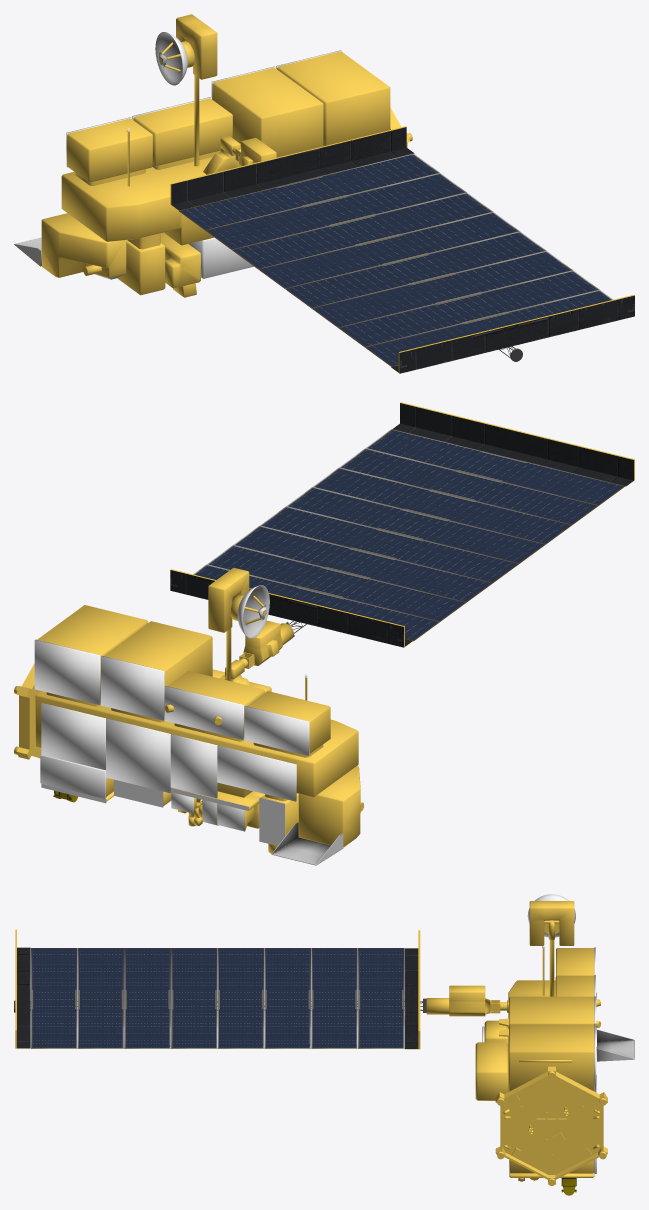
File: Terra.gltf
The picture shows the model from 3 angles, top to bottom: view 1: azimuth 30°, elevation 25°; view 2: azimuth 150°, elevation 25°; view 3: azimuth 270°, elevation 25°; orthographic projection. The views are drawn at different scales.
Visible parts, largest first — view 1: Solar_Panel_Assembly, BUS, Dish_Top_Base, Dish_Top, Solar_Panel_Base; view 2: Solar_Panel_Assembly, BUS, Dish_Top_Base, Dish_Top; view 3: Solar_Panel_Assembly, BUS, Dish_Top_Base.
Part boxes in pixels (bbox=[...]): Solar_Panel_Assembly: bbox=[170, 126, 634, 373]; BUS: bbox=[14, 50, 412, 297]; Dish_Top_Base: bbox=[176, 14, 217, 166]; Dish_Top: bbox=[155, 32, 194, 85]; Solar_Panel_Base: bbox=[203, 136, 240, 174]; Solar_Panel_Assembly: bbox=[170, 402, 634, 668]; BUS: bbox=[14, 605, 363, 865]; Dish_Top_Base: bbox=[208, 567, 249, 681]; Dish_Top: bbox=[230, 585, 269, 638]; Solar_Panel_Assembly: bbox=[14, 929, 506, 1049]; BUS: bbox=[475, 946, 634, 1195]; Dish_Top_Base: bbox=[529, 901, 574, 996].
Size of the model in its own units: 6.86 by 5.18 by 13.13.
Materials: 9 (4 with a texture image).
